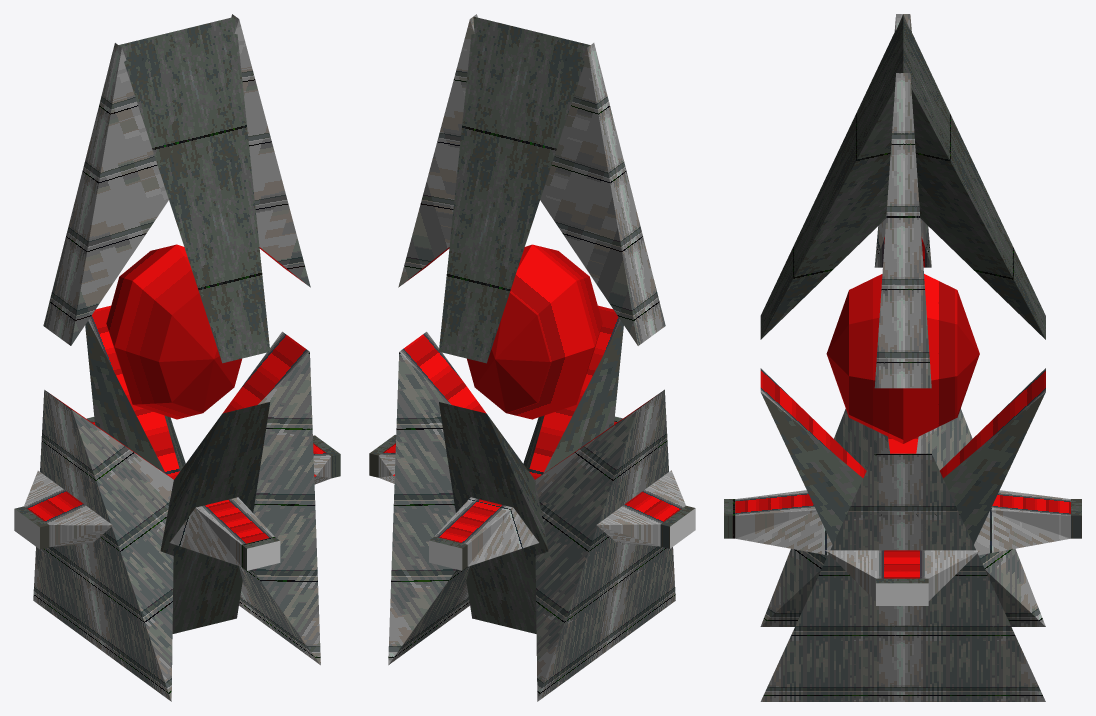
Rendered from model_005_building_reactor.glb.
3 views of the same model, side by side, from view 1: azimuth 30°, elevation 25°; view 2: azimuth 150°, elevation 25°; view 3: azimuth 270°, elevation 25° (orthographic). The views are drawn at different scales.
Visible parts, largest first — view 1: model_097; view 2: model_097; view 3: model_097.
Part boxes in pixels (box(x1,y1,x2,y2)): model_097: box(14, 14, 340, 701); model_097: box(369, 14, 695, 701); model_097: box(724, 14, 1081, 701).
Bounding box in the file's own units: 10.44 × 20 × 10.44.
Materials: 4 (3 with a texture image).
